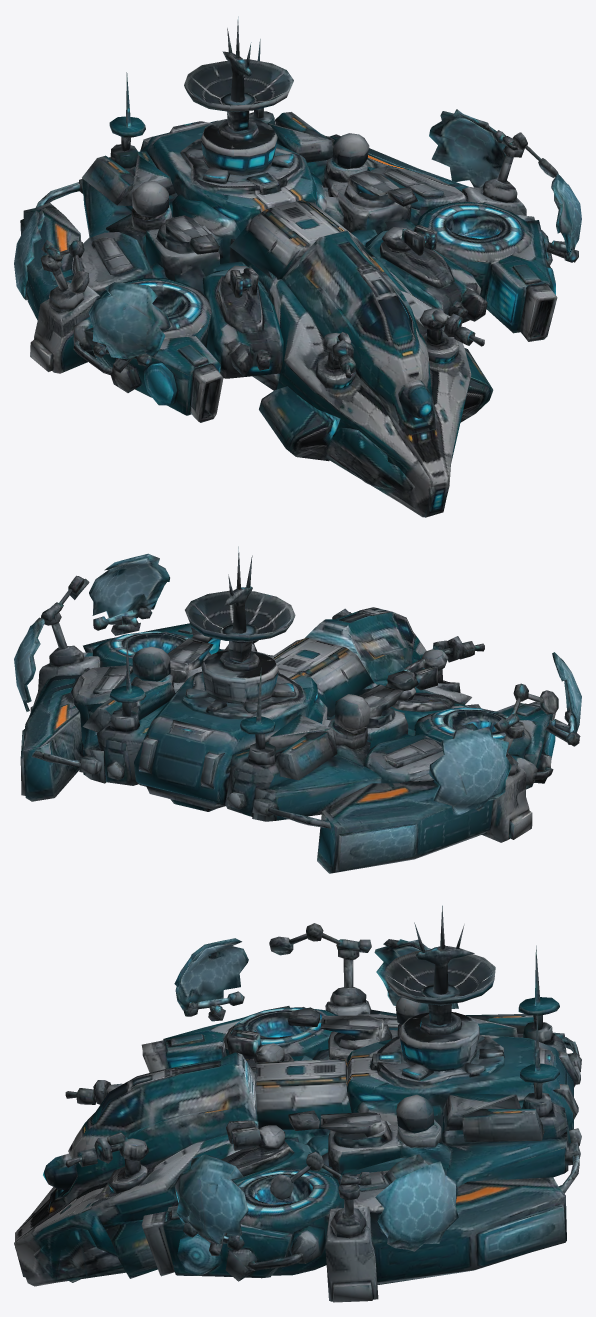
The model's file is praetorian.glb.
3 renders of one model, top to bottom at view 1: azimuth 30°, elevation 25°; view 2: azimuth 150°, elevation 25°; view 3: azimuth 270°, elevation 25°, orthographic. The views are drawn at different scales.
Parts seen in each view (by area): view 1: mesh_node; view 2: mesh_node; view 3: mesh_node.
Part boxes in pixels (bbox=[...]): mesh_node: bbox=[14, 16, 581, 517]; mesh_node: bbox=[14, 546, 581, 873]; mesh_node: bbox=[14, 905, 581, 1302].
Size of the model in its own units: 1 by 0.7109 by 0.9648.
1 material, 1 textured.
